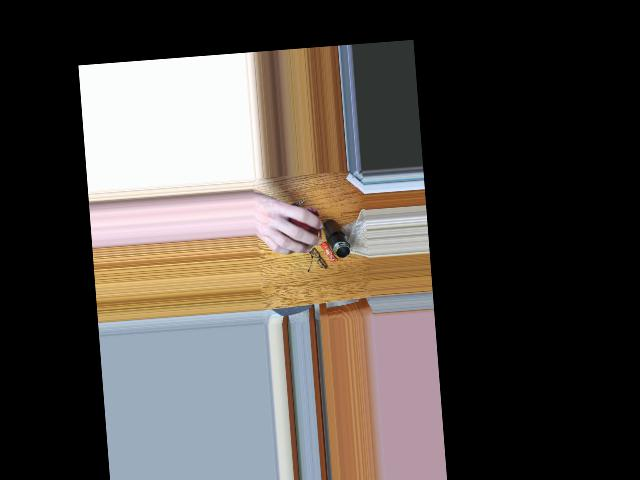onion: (280, 205, 315, 252)
